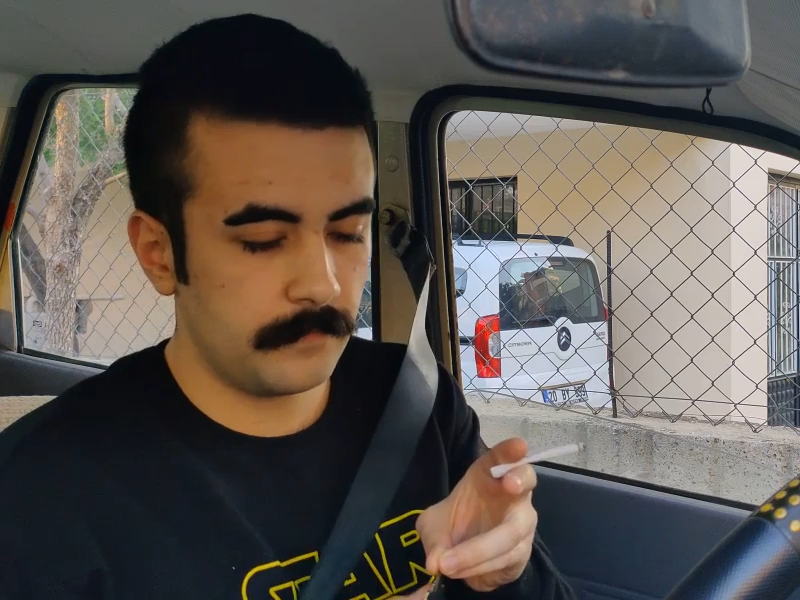sigara: (483, 439, 595, 482)
